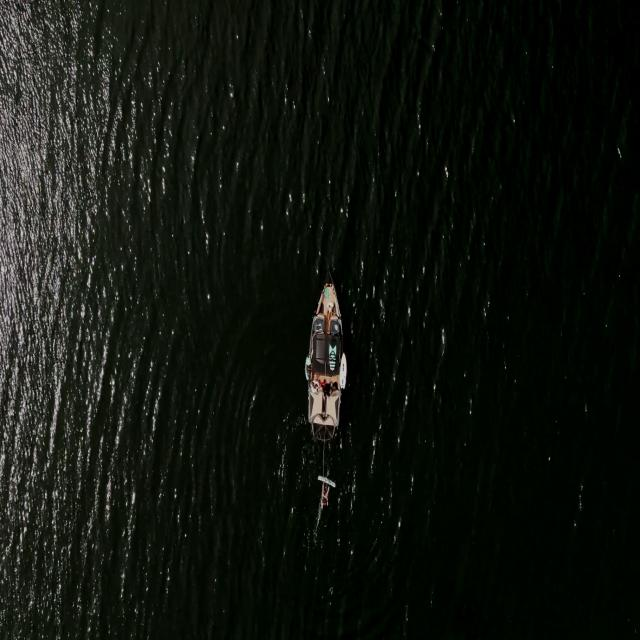ship: (305, 276, 344, 441), (338, 348, 347, 392)
